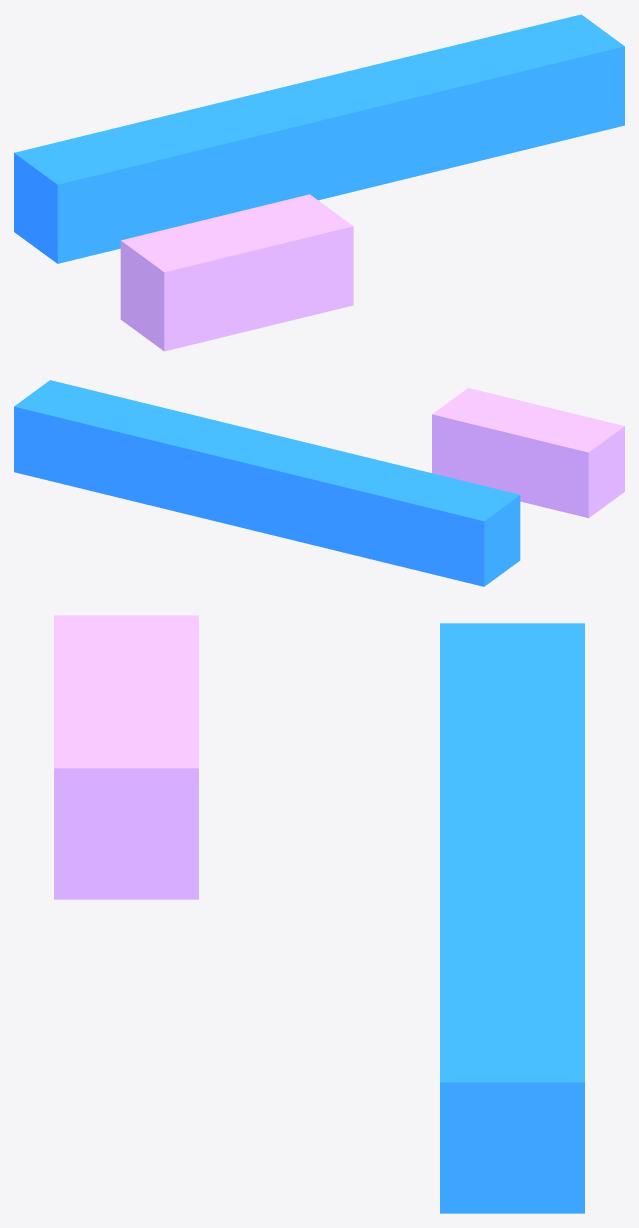
The model's file is krampusDestroyEff.gltf.
The picture shows the model from 3 angles, top to bottom: view 1: azimuth 30°, elevation 25°; view 2: azimuth 150°, elevation 25°; view 3: azimuth 270°, elevation 25°; orthographic projection. The views are drawn at different scales.
Visible parts, largest first — view 1: particle.000, particle.015; view 2: particle.000, particle.015; view 3: particle.000, particle.015.
Part boxes in pixels (left/top/right/bottom): particle.000: left=14, top=14, right=624, bottom=263; particle.015: left=120, top=194, right=353, bottom=351; particle.000: left=14, top=380, right=520, bottom=586; particle.015: left=432, top=388, right=624, bottom=518; particle.000: left=440, top=623, right=584, bottom=1213; particle.015: left=54, top=615, right=198, bottom=899.
Size of what is drawn, in the model's own units: 1.53 by 0.2 by 0.7332.
